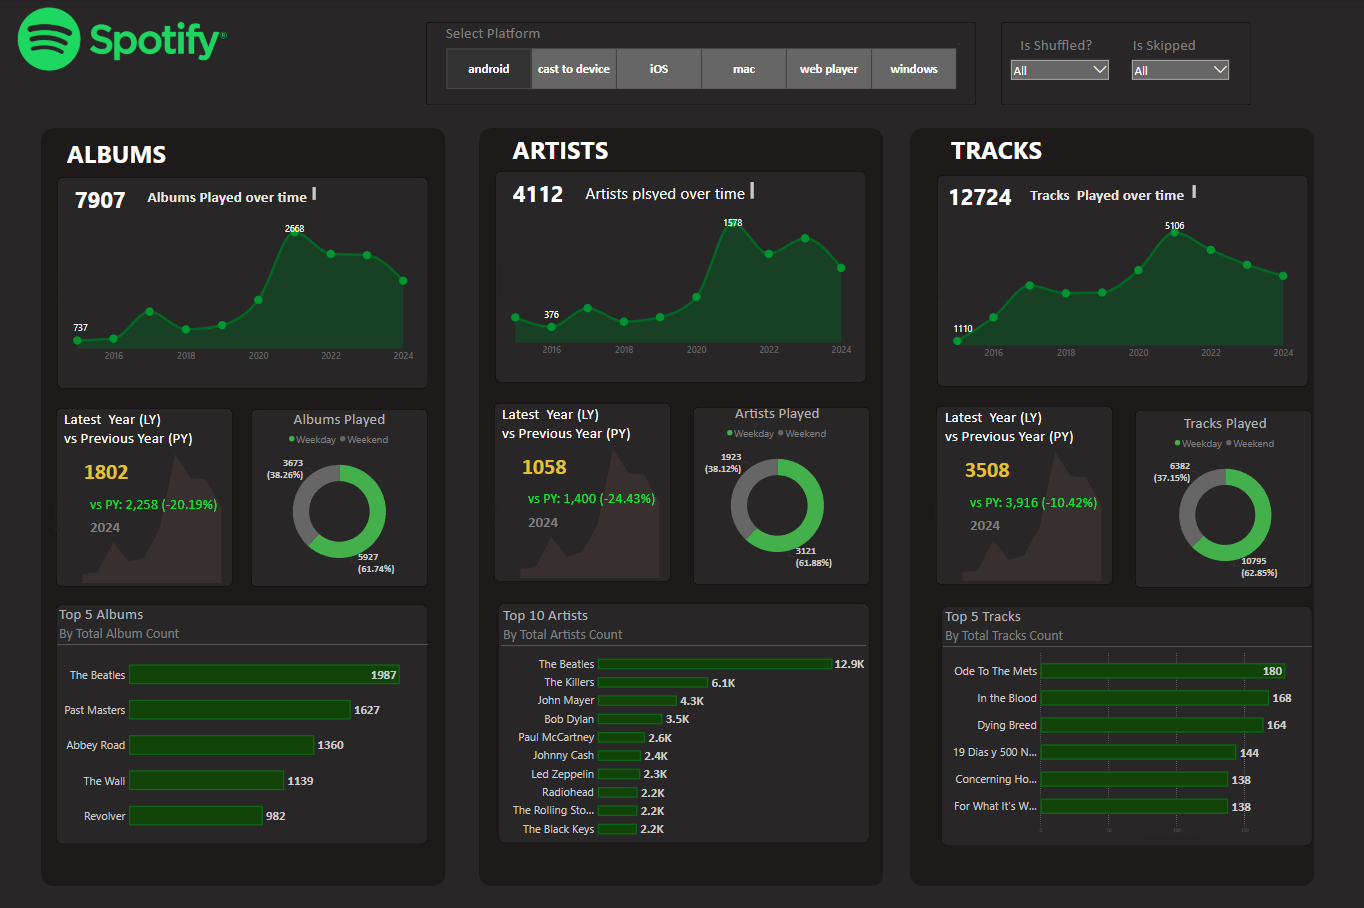

This screenshot's page, from the dashboard's own definition file:
{"tool":"powerbi","page":{"name":"Page 1","canvas":[3300,2200],"ordinal":0},"visuals":[{"type":"image","box":[12.6,0,575,200],"z":0},{"type":"shape","box":[100.6,310.8,978.1,1832.8],"z":1000},{"type":"textbox","box":[137.1,329.1,292.5,109.7],"z":2000},{"type":"shape","box":[139.1,429.9,897.7,512.1],"z":3000},{"type":"card","fields":{"Values":["spotify_history.No of Albums"]},"box":[150.9,429.8,189.3,102.3],"z":4000},{"type":"textbox","box":[340.9,449.6,429.8,54.3],"z":5000},{"type":"areaChart","fields":{"Category":["Date Table.Year"],"Y":["spotify_history.No of Albums"]},"box":[139.1,531,866.1,354],"z":6000},{"type":"shape","box":[137.8,989.2,427,432],"z":7000},{"type":"areaChart","fields":{"Category":["Date Table.Year"],"Y":["spotify_history.No of Albums"]},"box":[128.4,1067.1,424.9,350.7],"z":8000},{"type":"textbox","box":[153.5,987.4,345.3,143.3],"z":9000},{"type":"card","fields":{"Values":["spotify_history.CurrentYearAlbums"]},"box":[191.9,1100,135.6,76.7],"z":10000},{"type":"card","fields":{"Values":["spotify_history.PY and YOY Albums KPI"]},"box":[212.3,1176.7,322.3,84.4],"z":11000},{"type":"shape","box":[1033,54.8,1330.1,201.1],"z":12000},{"type":"card","fields":{"Values":["spotify_history.MAX Year"]},"box":[212.3,1243.3,87,64],"z":13000},{"type":"shape","box":[608.8,990,427.2,429.8],"z":14000},{"type":"slicer","fields":{"Values":["spotify_history.platform"]},"box":[1056.9,98.8,1281.2,125.5],"z":15000},{"type":"donutChart","title":"Albums Played","fields":{"Category":["Date Table.Weekday_Weekend"],"Y":["spotify_history.No of Albums"]},"box":[608.8,990,427.2,409.3],"z":16000},{"type":"shape","box":[138.1,1463.3,897.9,580.7],"z":17000},{"type":"barChart","title":"Top 5 Albums","fields":{"Category":["spotify_history.album_name"],"Y":["CountNonNull(spotify_history.album_name)"]},"box":[140.7,1463.3,897.9,578.1],"z":18000},{"type":"shape","box":[1160.9,310.8,978.1,1832.8],"z":19000},{"type":"shape","box":[2203,310.8,978.1,1832.8],"z":20000},{"type":"textbox","box":[1211.2,319.9,292.5,109.7],"z":21000},{"type":"shape","box":[1197.9,416.9,897.7,512.1],"z":22000},{"type":"card","fields":{"Values":["spotify_history.No of Artists"]},"box":[1209.8,416.7,189.3,102.3],"z":23000},{"type":"textbox","box":[1399.7,436.5,429.8,54.3],"z":24000},{"type":"areaChart","fields":{"Category":["Date Table.Year"],"Y":["spotify_history.No of Artists"]},"box":[1197.9,518,866.1,354],"z":25000},{"type":"shape","box":[1196.7,976.2,427,432],"z":26000},{"type":"areaChart","fields":{"Category":["Date Table.Year"],"Y":["spotify_history.No of Albums"]},"box":[1187.3,1054,424.9,350.7],"z":27000},{"type":"textbox","box":[1212.3,974.4,345.3,143.3],"z":28000},{"type":"card","fields":{"Values":["spotify_history.LatestYearArtists"]},"box":[1250.7,1087,135.6,76.7],"z":29000},{"type":"card","fields":{"Values":["spotify_history.PY and YOY Artists KPI"]},"box":[1271.2,1163.7,322.3,84.4],"z":30000},{"type":"card","fields":{"Values":["spotify_history.MAX Year"]},"box":[1271.2,1230.2,87,64],"z":31000},{"type":"shape","box":[1677.7,987,427.2,429.8],"z":32000},{"type":"donutChart","title":"Artists Played","fields":{"Category":["Date Table.Weekday_Weekend"],"Y":["spotify_history.No of Artists"]},"box":[1667.7,977,427.2,409.3],"z":33000},{"type":"shape","box":[1207,1460.2,897.9,580.7],"z":34000},{"type":"barChart","title":"Top 10 Artists","fields":{"Category":["spotify_history.artist_name"],"Y":["CountNonNull(spotify_history.artist_name)"]},"box":[1212.6,1465.8,882.6,578.1],"z":35000},{"type":"textbox","box":[2267,319.9,288,109.7],"z":36000},{"type":"shape","box":[2267.2,424.5,897.7,512.1],"z":37000},{"type":"card","fields":{"Values":["spotify_history.No of Tracks"]},"box":[2276.2,425.1,187.4,100.6],"z":38000},{"type":"textbox","box":[2469,444.2,429.8,54.3],"z":39000},{"type":"areaChart","fields":{"Category":["Date Table.Year"],"Y":["spotify_history.No of Tracks"]},"box":[2267.2,525.7,866.1,354],"z":40000},{"type":"shape","box":[2266,983.8,427,432],"z":41000},{"type":"areaChart","fields":{"Category":["Date Table.Year"],"Y":["spotify_history.No of Albums"]},"box":[2256.6,1061.7,424.9,350.7],"z":42000},{"type":"textbox","box":[2281.6,982.1,345.3,143.3],"z":43000},{"type":"card","fields":{"Values":["spotify_history.LatestYearTracks"]},"box":[2320,1094.7,135.6,76.7],"z":44000},{"type":"card","fields":{"Values":["spotify_history.PY and YOY Tracks KPI"]},"box":[2340.5,1171.4,322.3,84.4],"z":45000},{"type":"card","fields":{"Values":["spotify_history.MAX Year"]},"box":[2340.5,1237.9,87,64],"z":46000},{"type":"shape","box":[2747,994.7,427.2,429.8],"z":47000},{"type":"donutChart","title":"Tracks Played","fields":{"Category":["Date Table.Weekday_Weekend"],"Y":["spotify_history.No of Tracks"]},"box":[2752.5,999.9,422,406.8],"z":48000},{"type":"shape","box":[2276.3,1467.9,897.9,580.7],"z":49000},{"type":"barChart","title":"Top 5 Tracks","fields":{"Category":["spotify_history.track_name"],"Y":["CountNonNull(spotify_history.track_name)"]},"box":[2281.9,1468.4,892.8,573],"z":50000},{"type":"textbox","box":[1045.5,53.2,300.3,57],"z":51000},{"type":"shape","box":[2422.4,54.8,603.3,201.1],"z":52000},{"type":"slicer","fields":{"Values":["spotify_history.shuffle"]},"box":[2437,136.9,256,75],"z":53000},{"type":"slicer","fields":{"Values":["spotify_history.skipped"]},"box":[2729.5,137.8,253.8,74.9],"z":54000},{"type":"textbox","box":[2453.3,81.9,204.7,56.3],"z":55000},{"type":"textbox","box":[2691.2,81.9,253.3,56.3],"z":56000}]}

Visuals, with their boxes in screenshot pixels (x1, y1, x2, y2), scaled from the page's 3300x2200 canvas onto the 1364x908 screenshot:
image: <bbox>5, 0, 243, 83</bbox>
shape: <bbox>42, 128, 446, 885</bbox>
textbox: <bbox>57, 136, 178, 181</bbox>
shape: <bbox>57, 177, 429, 389</bbox>
card - spotify_history.No of Albums: <bbox>62, 177, 141, 220</bbox>
textbox: <bbox>141, 186, 319, 208</bbox>
areaChart - Date Table.Year x spotify_history.No of Albums: <bbox>57, 219, 415, 365</bbox>
shape: <bbox>57, 408, 233, 587</bbox>
areaChart - Date Table.Year x spotify_history.No of Albums: <bbox>53, 440, 229, 585</bbox>
textbox: <bbox>63, 408, 206, 467</bbox>
card - spotify_history.CurrentYearAlbums: <bbox>79, 454, 135, 486</bbox>
card - spotify_history.PY and YOY Albums KPI: <bbox>88, 486, 221, 520</bbox>
shape: <bbox>427, 23, 977, 106</bbox>
card - spotify_history.MAX Year: <bbox>88, 513, 124, 540</bbox>
shape: <bbox>252, 409, 428, 586</bbox>
slicer - spotify_history.platform: <bbox>437, 41, 966, 93</bbox>
"Albums Played" donutChart: <bbox>252, 409, 428, 578</bbox>
shape: <bbox>57, 604, 428, 844</bbox>
"Top 5 Albums" barChart: <bbox>58, 604, 429, 843</bbox>
shape: <bbox>480, 128, 884, 885</bbox>
shape: <bbox>911, 128, 1315, 885</bbox>
textbox: <bbox>501, 132, 622, 177</bbox>
shape: <bbox>495, 172, 866, 383</bbox>
card - spotify_history.No of Artists: <bbox>500, 172, 578, 214</bbox>
textbox: <bbox>579, 180, 756, 203</bbox>
areaChart - Date Table.Year x spotify_history.No of Artists: <bbox>495, 214, 853, 360</bbox>
shape: <bbox>495, 403, 671, 581</bbox>
areaChart - Date Table.Year x spotify_history.No of Albums: <bbox>491, 435, 666, 580</bbox>
textbox: <bbox>501, 402, 644, 461</bbox>
card - spotify_history.LatestYearArtists: <bbox>517, 449, 573, 480</bbox>
card - spotify_history.PY and YOY Artists KPI: <bbox>525, 480, 659, 515</bbox>
card - spotify_history.MAX Year: <bbox>525, 508, 561, 534</bbox>
shape: <bbox>693, 407, 870, 585</bbox>
"Artists Played" donutChart: <bbox>689, 403, 866, 572</bbox>
shape: <bbox>499, 603, 870, 842</bbox>
"Top 10 Artists" barChart: <bbox>501, 605, 866, 844</bbox>
textbox: <bbox>937, 132, 1056, 177</bbox>
shape: <bbox>937, 175, 1308, 387</bbox>
card - spotify_history.No of Tracks: <bbox>941, 175, 1018, 217</bbox>
textbox: <bbox>1021, 183, 1198, 206</bbox>
areaChart - Date Table.Year x spotify_history.No of Tracks: <bbox>937, 217, 1295, 363</bbox>
shape: <bbox>937, 406, 1113, 584</bbox>
areaChart - Date Table.Year x spotify_history.No of Albums: <bbox>933, 438, 1108, 583</bbox>
textbox: <bbox>943, 405, 1086, 464</bbox>
card - spotify_history.LatestYearTracks: <bbox>959, 452, 1015, 483</bbox>
card - spotify_history.PY and YOY Tracks KPI: <bbox>967, 483, 1101, 518</bbox>
card - spotify_history.MAX Year: <bbox>967, 511, 1003, 537</bbox>
shape: <bbox>1135, 411, 1312, 588</bbox>
"Tracks Played" donutChart: <bbox>1138, 413, 1312, 581</bbox>
shape: <bbox>941, 606, 1312, 846</bbox>
"Top 5 Tracks" barChart: <bbox>943, 606, 1312, 843</bbox>
textbox: <bbox>432, 22, 556, 45</bbox>
shape: <bbox>1001, 23, 1251, 106</bbox>
slicer - spotify_history.shuffle: <bbox>1007, 57, 1113, 87</bbox>
slicer - spotify_history.skipped: <bbox>1128, 57, 1233, 88</bbox>
textbox: <bbox>1014, 34, 1099, 57</bbox>
textbox: <bbox>1112, 34, 1217, 57</bbox>
